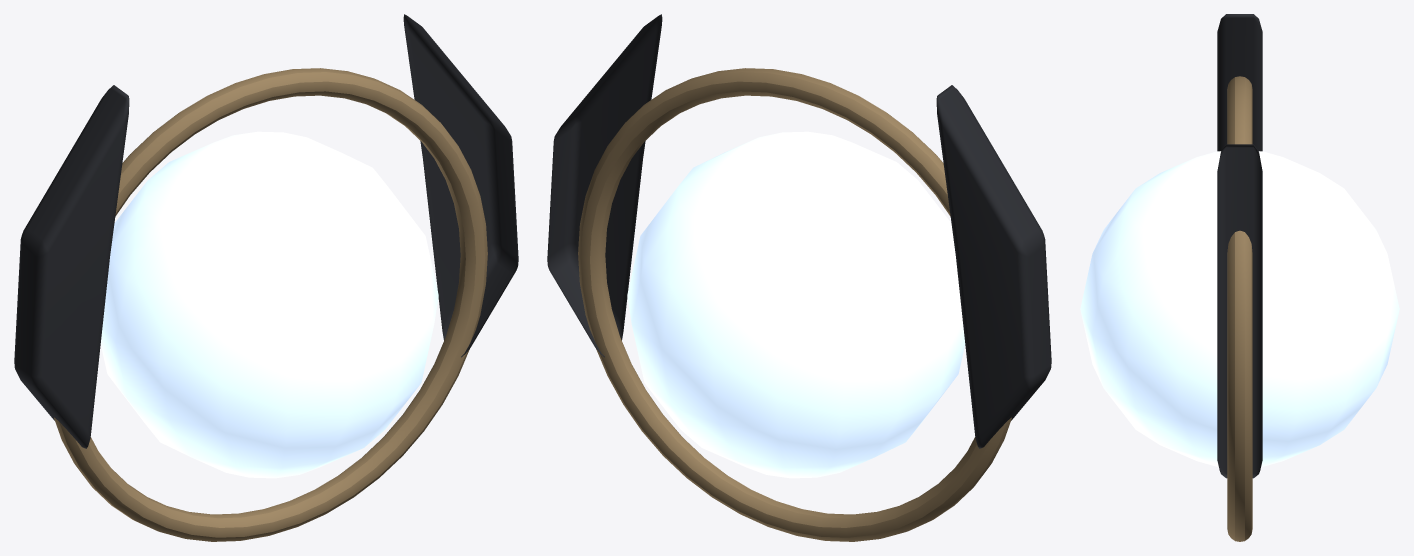
File: orbit-of-silence.glb
The picture shows the model from 3 angles, left to right: view 1: azimuth 30°, elevation 25°; view 2: azimuth 150°, elevation 25°; view 3: azimuth 270°, elevation 25°; orthographic projection. The views are drawn at different scales.
Parts seen in each view (by area): view 1: Levitating spirit orb, Orb frame cathedral fin, Interconnected orbital brass ring, Orb frame cathedral fin.001, Interconnected orbital brass ring.001, Interconnected orbital brass ring.002; view 2: Levitating spirit orb, Orb frame cathedral fin, Orb frame cathedral fin.001, Interconnected orbital brass ring, Interconnected orbital brass ring.002, Interconnected orbital brass ring.001; view 3: Levitating spirit orb, Orb frame cathedral fin.001, Interconnected orbital brass ring, Orb frame cathedral fin, Interconnected orbital brass ring.001, Interconnected orbital brass ring.002.
Boxes of the visible parts, x1,y1,x2,y2 form: Levitating spirit orb: (100, 131, 438, 478); Orb frame cathedral fin: (14, 85, 129, 448); Interconnected orbital brass ring: (54, 68, 487, 541); Orb frame cathedral fin.001: (403, 14, 518, 357); Interconnected orbital brass ring.001: (54, 69, 487, 540); Interconnected orbital brass ring.002: (64, 69, 487, 539); Levitating spirit orb: (627, 131, 965, 478); Orb frame cathedral fin: (936, 85, 1051, 448); Orb frame cathedral fin.001: (547, 14, 662, 357); Interconnected orbital brass ring: (578, 68, 1011, 536); Interconnected orbital brass ring.002: (578, 68, 1006, 541); Interconnected orbital brass ring.001: (586, 69, 1010, 541); Levitating spirit orb: (1080, 151, 1399, 466); Orb frame cathedral fin.001: (1217, 144, 1262, 478); Interconnected orbital brass ring: (1227, 77, 1252, 541); Orb frame cathedral fin: (1217, 14, 1262, 151); Interconnected orbital brass ring.001: (1227, 76, 1251, 541); Interconnected orbital brass ring.002: (1227, 77, 1252, 541).
Bounding box in the file's own units: 0.3393 × 0.3201 × 0.21.
